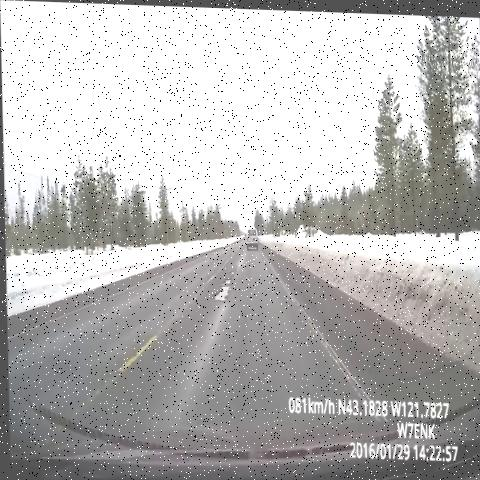pothole: (207, 260, 240, 316)
